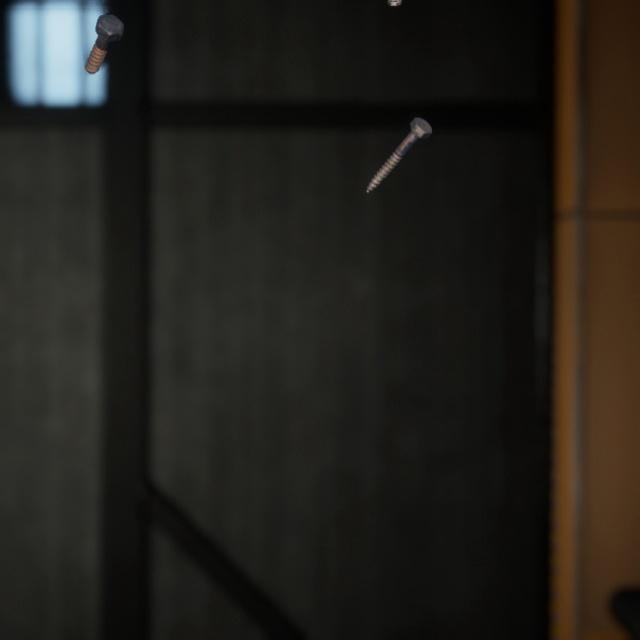bolt: (362, 100, 436, 184), (80, 1, 128, 69)
nut: (523, 616, 568, 640)
